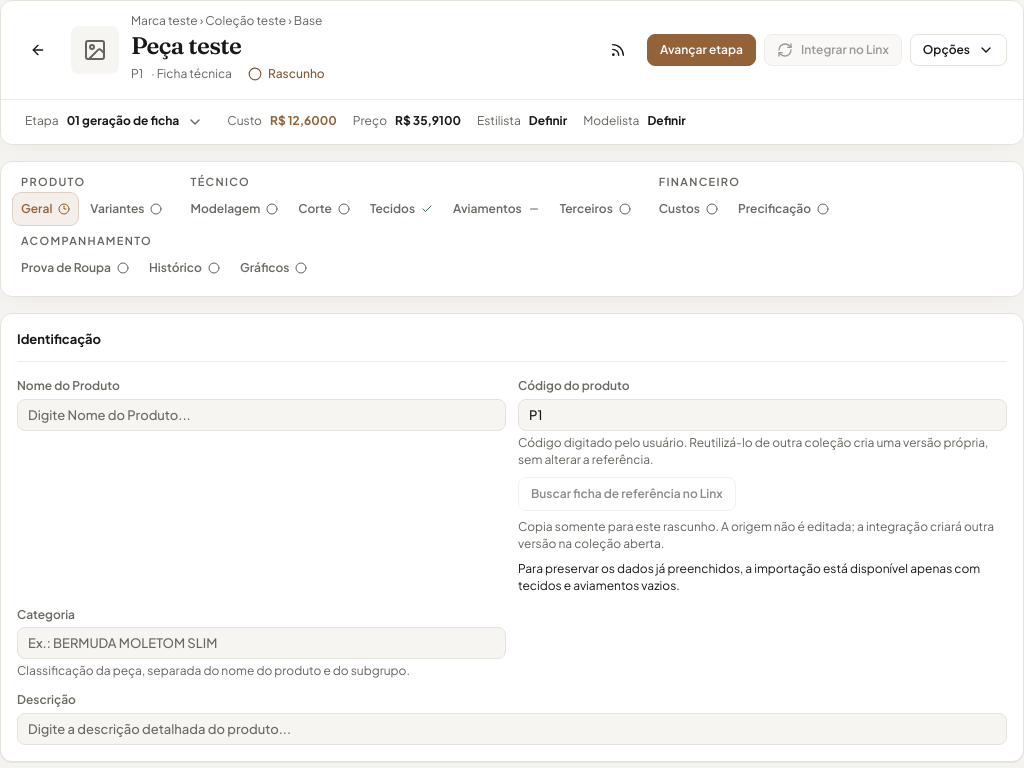
Test case: Avanço sequencial da ficha › avança de 01 para 02 com grade pendente sem confirmar automaticamente os dados
Click the button "Avançar etapa".
click(702, 50)  # box [647, 34, 756, 66]
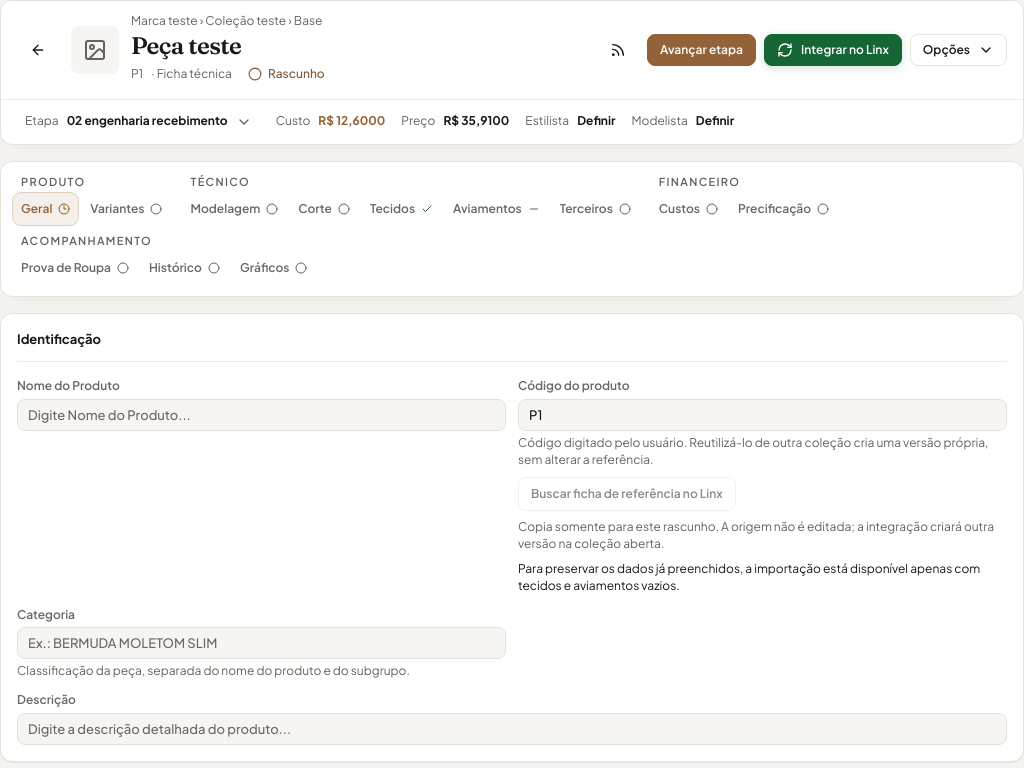
Expected: the text "02 engenharia recebimento" is shown, [67, 113, 228, 130]
